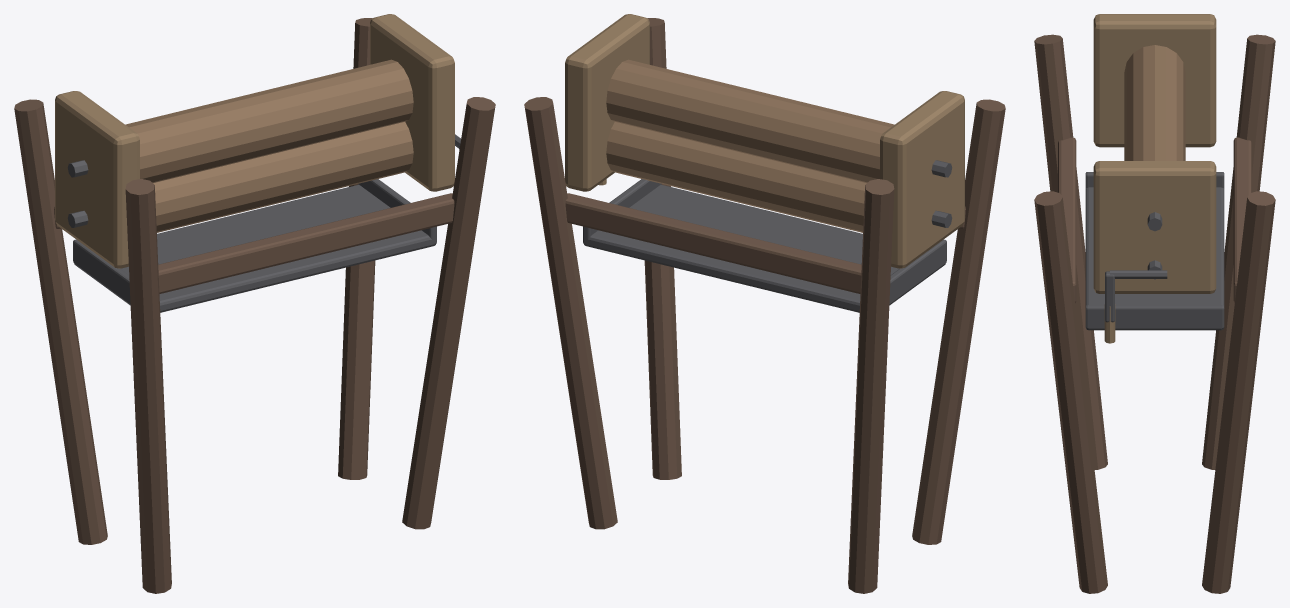
3 renders of one model, left to right at view 1: azimuth 30°, elevation 25°; view 2: azimuth 150°, elevation 25°; view 3: azimuth 270°, elevation 25°, orthographic. The views are drawn at different scales.
Parts seen in each view (by area): view 1: manglePress; view 2: manglePress; view 3: manglePress.
Part boxes in pixels (x1=…): manglePress: x1=14, y1=14, x2=495, y2=593; manglePress: x1=524, y1=14, x2=1005, y2=593; manglePress: x1=1034, y1=14, x2=1275, y2=593.
Size of the model in its own units: 1.01 by 1.18 by 0.5905.
